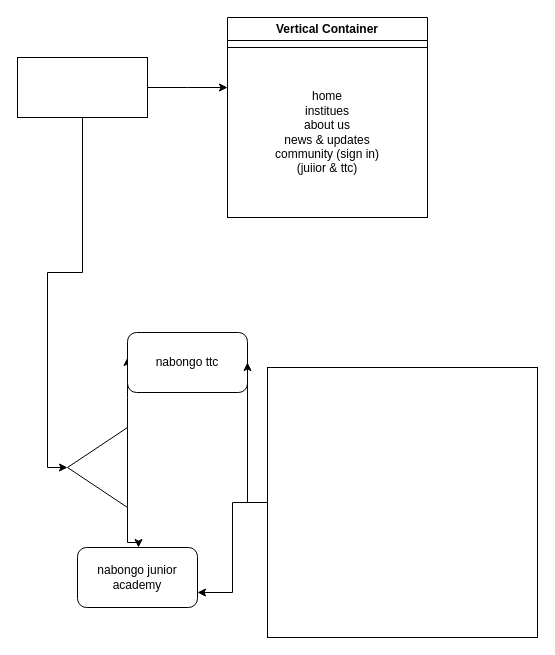
Image size: 555x655. Some labels were removed from this diagram. Each missing label, with the centre of its shape:
"home programs student life teams addmissions contact us faq" goes at pixel 402 502.
"Nabongo Institute" goes at pixel 82 87.
